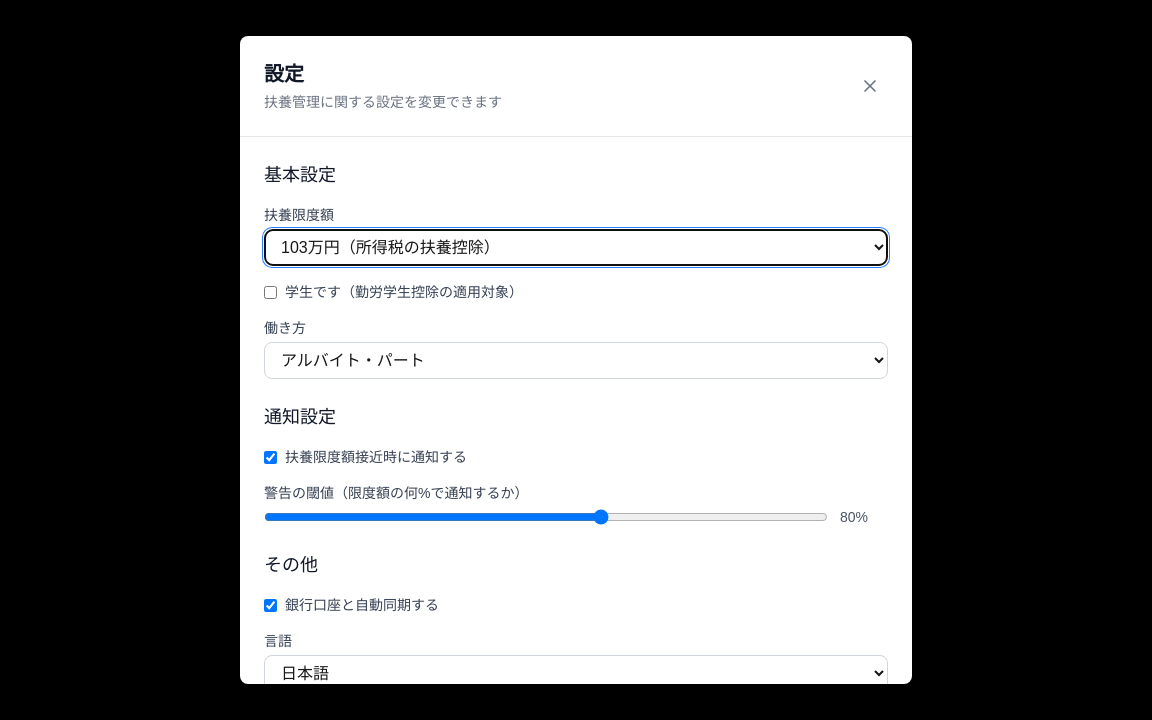
Scenario: SettingsModal › 通知設定を無効にすると警告閾値が非表示になる
Expected: the slider labelled "警告の閾値（限度額の何%で通知するか）" is shown, [264, 509, 828, 525]
Click the checkbox labelled "扶養限度額接近時に通知する": click(270, 457) [264, 450, 277, 464]
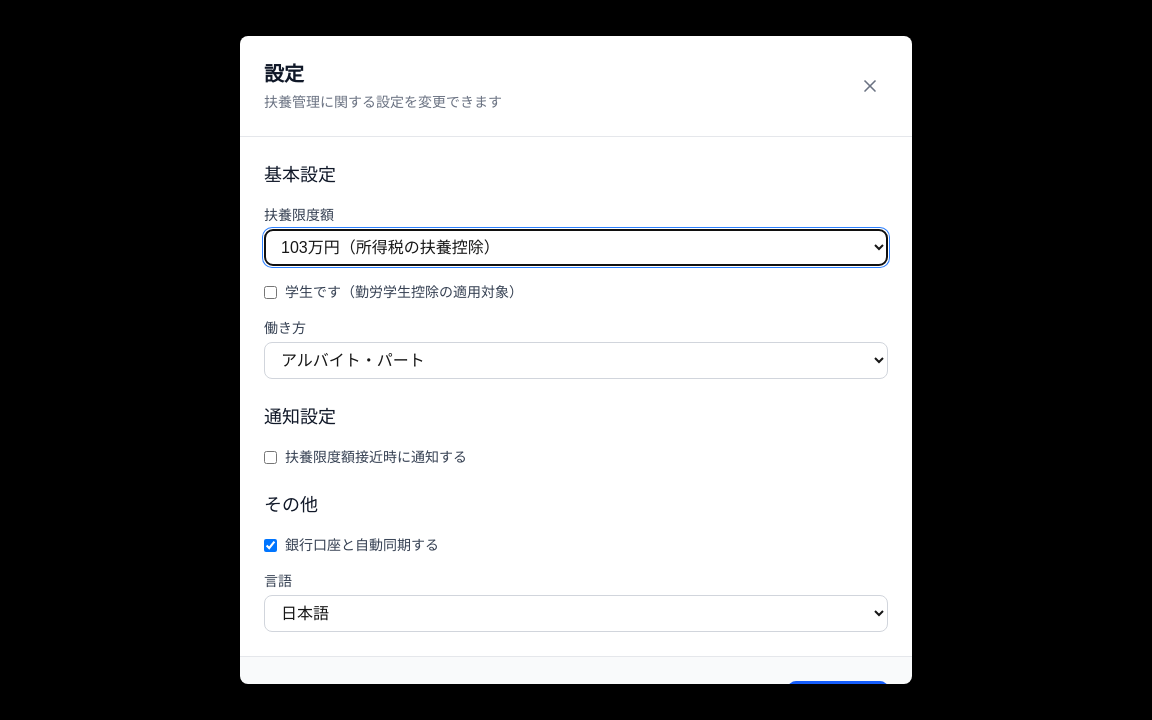
Now the label labelled "警告の閾値（限度額の何%で通知するか）" is gone
